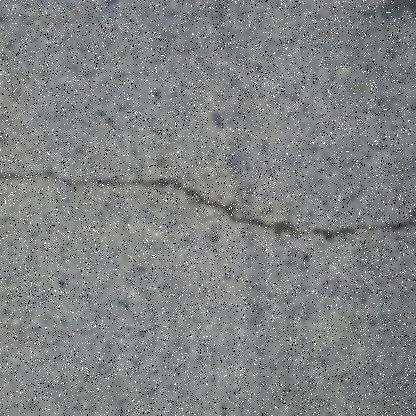Cracks: (0, 167, 416, 243)
